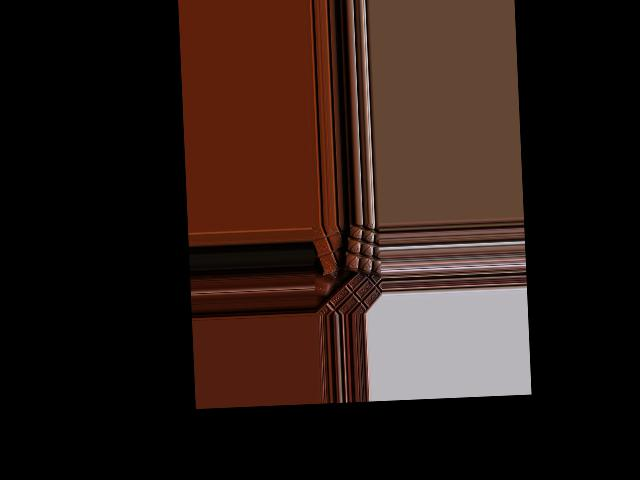chocolate: (315, 223, 357, 274)
